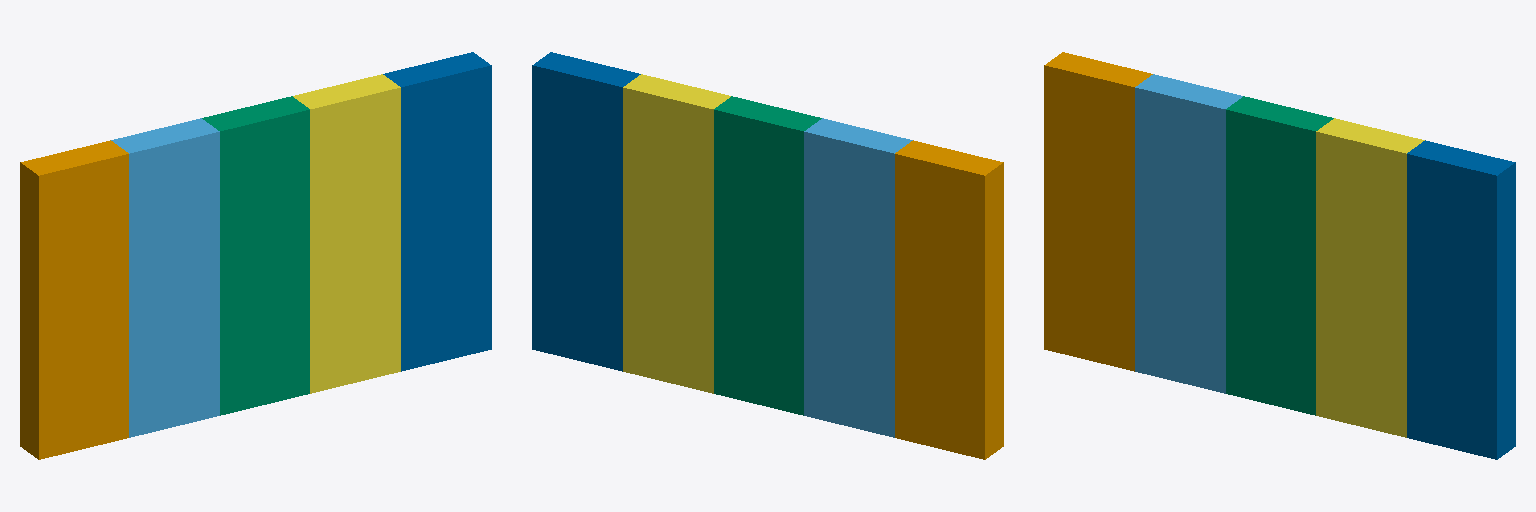
The robot description file, URDF, robot "linear_block_robot":
<?xml version="1.0"?>
<robot name="linear_block_robot">

  <!-- Link Definitions -->
  <link name="block1">
    <visual>
      <origin xyz="0. 0 0" rpy="0 0 0"/>
      <geometry>
        <box size="1 0.35 3"/>
      </geometry>
    </visual>
    <collision>
      <origin xyz="0. 0 0" rpy="0 0 0"/>
      <geometry>
        <box size="1 0.35 3"/>
      </geometry>
    </collision>
    <inertial>
      <mass value="1"/> 
      <origin xyz="0. 0 0"/> 
      <inertia ixx="1" iyy="1" izz="1"/> 
    </inertial>
  </link>

  <link name="block2">
    <visual>
      <origin xyz="0.5 0 0" rpy="0 0 0"/> 
      <geometry>
        <box size="1 0.35 3"/>
      </geometry>
    </visual>
    <collision>
      <origin xyz="0.5 0 0" rpy="0 0 0"/>
      <geometry>
        <box size="1 0.35 3"/>
      </geometry>
    </collision>
    <inertial>
      <mass value="1"/> 
      <origin xyz="0.5 0 0"/> 
      <inertia ixx="1" iyy="1" izz="1"/> 
    </inertial>
  </link>

  <link name="block3">
    <visual>
      <origin xyz="0.5 0 0" rpy="0 0 0"/>
      <geometry>
        <box size="1 0.35 3"/>
      </geometry>
    </visual>
    <collision>
      <origin xyz="0.5 0 0" rpy="0 0 0"/>
      <geometry>
        <box size="1 0.35 3"/>
      </geometry>
    </collision>
    <inertial>
      <mass value="1"/> 
      <origin xyz="0.5 0 0"/> 
      <inertia ixx="1" iyy="1" izz="1"/> 
    </inertial>
  </link>

  <link name="block4">
    <visual>
      <origin xyz="0.5 0 0" rpy="0 0 0"/>
      <geometry>
        <box size="1 0.35 3"/>
      </geometry>
    </visual>
    <collision>
      <origin xyz="0.5 0 0" rpy="0 0 0"/>
      <geometry>
        <box size="1 0.35 3"/>
      </geometry>
    </collision>
    <inertial>
      <mass value="1"/> 
      <origin xyz="0.5 0 0"/> 
      <inertia ixx="1" iyy="1" izz="1"/> 
    </inertial>
  </link>

  <link name="block5">
    <visual>
      <origin xyz="0.5 0 0" rpy="0 0 0"/>
      <geometry>
        <box size="1 0.35 3"/>
      </geometry>
    </visual>
    <collision>
      <origin xyz="0.5 0 0" rpy="0 0 0"/>
      <geometry>
        <box size="1 0.35 3"/>
      </geometry>
    </collision>
    <inertial>
      <mass value="1"/> 
      <origin xyz="0.5 0 0"/> 
      <inertia ixx="1" iyy="1" izz="1"/> 
    </inertial>
  </link>

  <!-- Joint Definitions -->
  <joint name="joint1" type="revolute">
    <parent link="block1"/>
    <child link="block2"/>
    <origin xyz="0.5 0 0" rpy="0 0 0"/>
    <axis xyz="0 0 1"/>
    <limit effort="1000" lower="-1.57" upper="1.57" velocity="50"/>
    <dynamics damping="0.001" friction="0.001"/>
  </joint>

  <joint name="joint2" type="revolute">
    <parent link="block2"/>
    <child link="block3"/>
    <origin xyz="1 0 0" rpy="0 0 0"/>
    <axis xyz="0 0 1"/>
    <limit effort="1000" lower="-1.57" upper="1.57" velocity="50"/>
    <dynamics damping="0.001" friction="0.001"/>
  </joint>

  <joint name="joint3" type="revolute">
    <parent link="block3"/>
    <child link="block4"/>
    <origin xyz="1 0 0" rpy="0 0 0"/>
    <axis xyz="0 0 1"/>
    <limit effort="1000" lower="-1.57" upper="1.57" velocity="50"/>
    <dynamics damping="0.001" friction="0.001"/>
  </joint>

  <joint name="joint4" type="revolute">
    <parent link="block4"/>
    <child link="block5"/>
    <origin xyz="1 0 0" rpy="0 0 0"/>
    <axis xyz="0 0 1"/>
    <limit effort="1000" lower="-1.57" upper="1.57" velocity="50"/>
    <dynamics damping="0.001" friction="0.001"/>
  </joint>

</robot>

--- Facts derived from the render (not from the file) ---
Views: 3 orthographic renders of the robot side by side, from view 1: azimuth 30°, elevation 25°; view 2: azimuth 150°, elevation 25°; view 3: azimuth 330°, elevation 25°.
Model linear_block_robot with 5 links and 4 joints (4 revolute), rooted at block1, posed every joint at zero.
Links seen in each view (by area): view 1: block1, block2, block4, block5, block3; view 2: block1, block2, block4, block5, block3; view 3: block5, block1, block2, block4, block3.
Boxes of the visible links, box(x1,y1,x2,y2) form: block1: box(20, 140, 128, 459); block2: box(111, 118, 219, 437); block4: box(293, 74, 400, 393); block5: box(383, 52, 491, 371); block3: box(202, 96, 309, 415); block1: box(895, 140, 1003, 459); block2: box(804, 118, 912, 437); block4: box(623, 74, 730, 393); block5: box(532, 52, 640, 371); block3: box(714, 96, 821, 415); block5: box(1407, 140, 1515, 459); block1: box(1044, 52, 1152, 371); block2: box(1135, 74, 1242, 393); block4: box(1316, 118, 1424, 437); block3: box(1226, 96, 1333, 415).
Size in the robot's own frame: 5 by 0.35 by 3 metres.
Geometry: primitives only (box / cylinder / sphere), no mesh files.